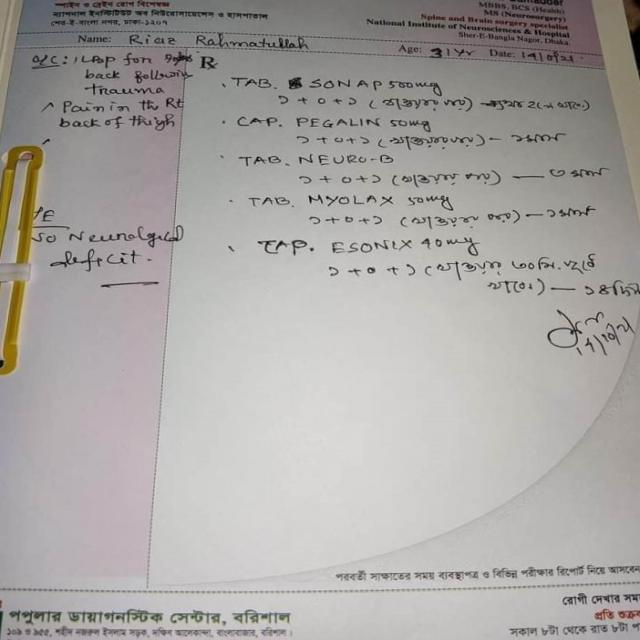Esonix: (320, 234, 422, 257)
Myolax: (301, 190, 402, 211)
Neuro B: (292, 147, 400, 173)
Pegalin: (291, 110, 387, 135)
Sonap: (306, 71, 386, 97)
